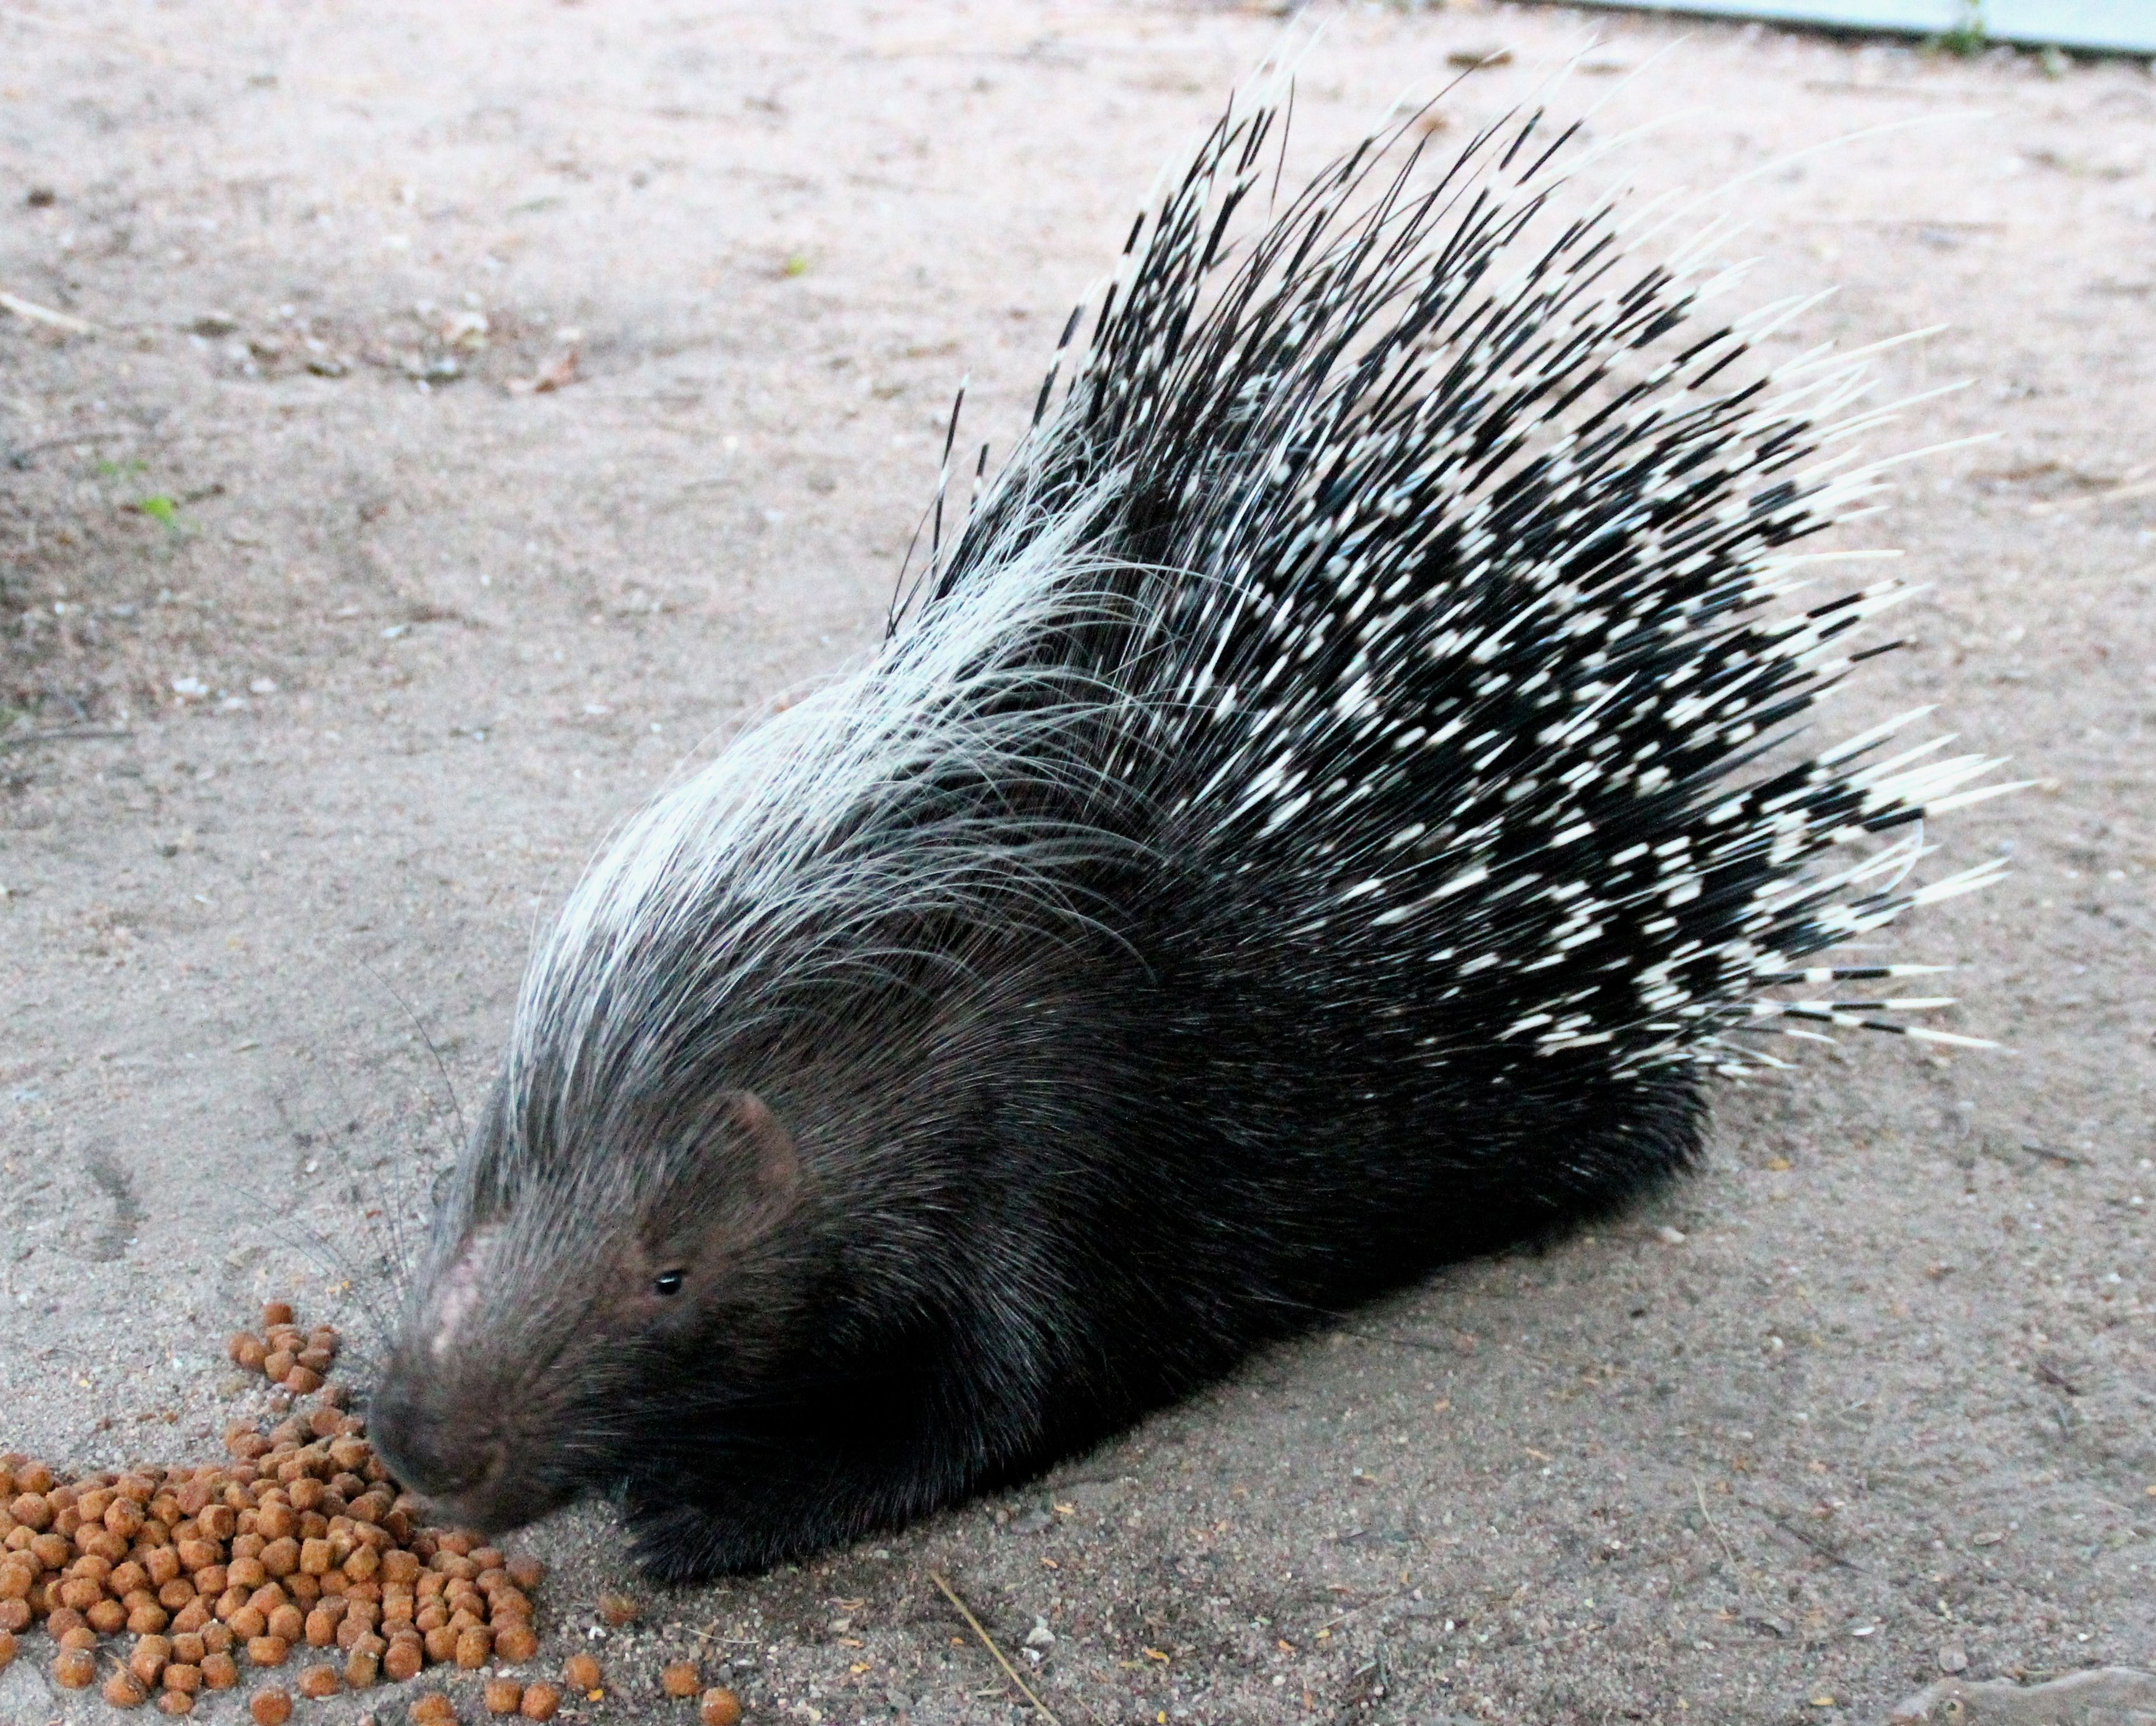porcupine: (326, 7, 1982, 1594)
